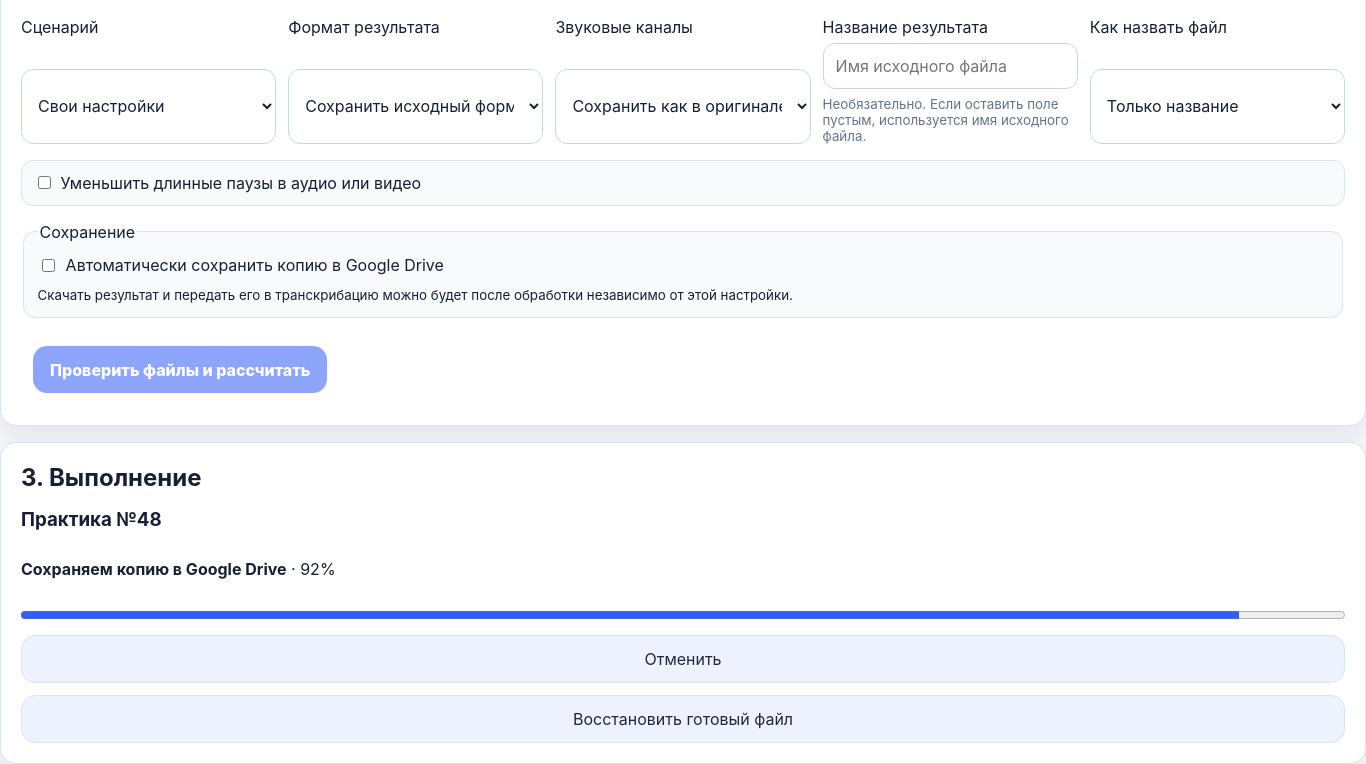
Test case: audio UX regression › recovers persisted legacy audio without creating another processing job
The image size is (1366, 764).
(page scrolled)
Step 1. Click the button "Восстановить готовый файл" → point(683, 719), box [21,695,1345,743]
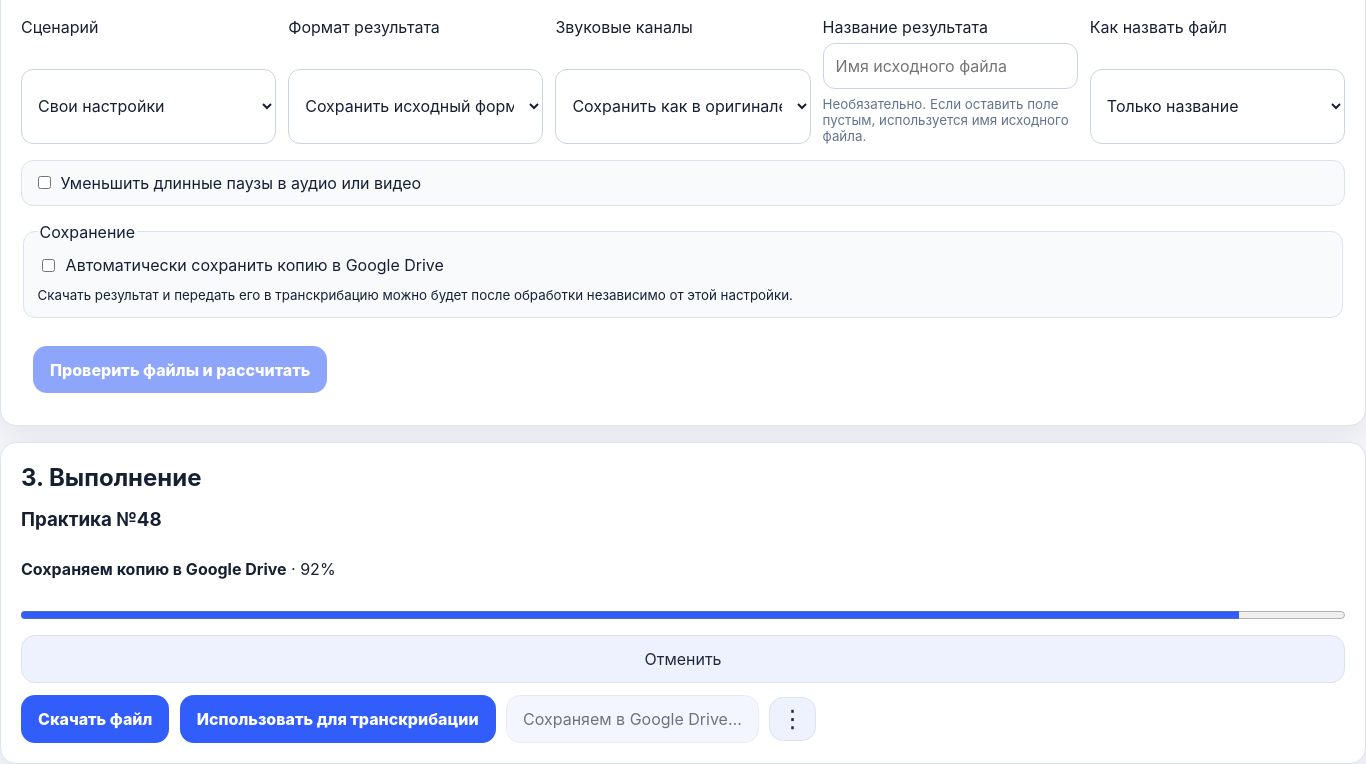
Expected: the button "Использовать для транскрибации" is enabled, [180,695,496,743]
Expected: the button "Восстановить готовый файл" is gone
